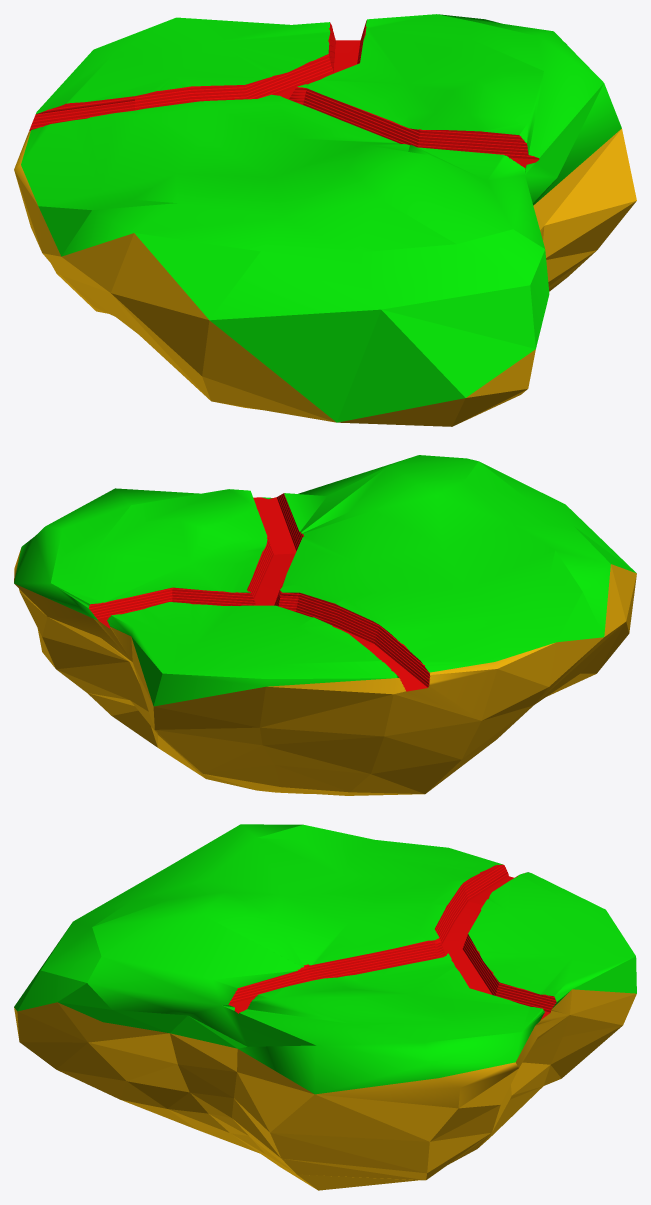
The model's file is LandChunkF_Trench.fbx.
3 views of the same model, one above another, from view 1: azimuth 30°, elevation 25°; view 2: azimuth 150°, elevation 25°; view 3: azimuth 270°, elevation 25° (orthographic). The views are drawn at different scales.
Visible parts, largest first — view 1: LandChunkF_Trench; view 2: LandChunkF_Trench; view 3: LandChunkF_Trench.
Boxes of the visible parts, x1=… form: LandChunkF_Trench: x1=14, y1=14, x2=636, y2=426; LandChunkF_Trench: x1=14, y1=455, x2=636, y2=795; LandChunkF_Trench: x1=14, y1=824, x2=636, y2=1190.
Size of the model in its own units: 118 by 53.26 by 128.
